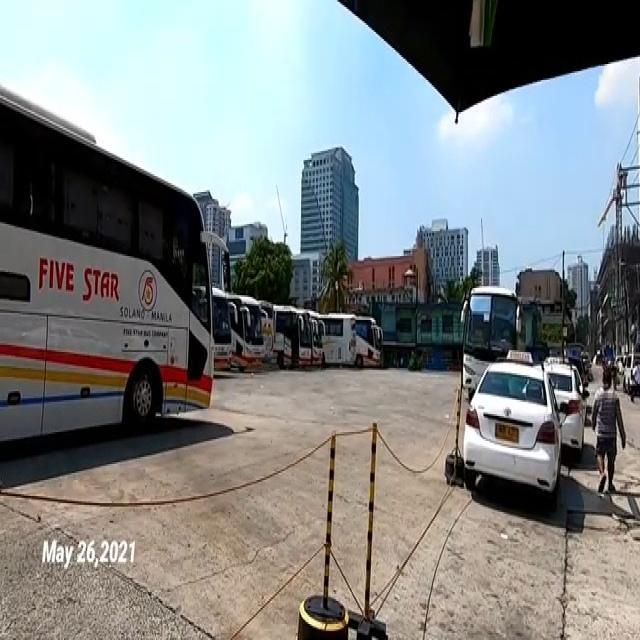bus: (0, 85, 217, 445), (462, 284, 522, 400), (274, 303, 312, 374), (233, 290, 265, 372), (323, 310, 357, 368), (212, 286, 232, 378), (357, 314, 383, 368), (261, 296, 276, 366), (312, 312, 326, 370)
car: (462, 350, 562, 493)
